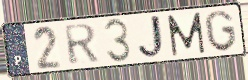2: (32, 24, 64, 70)
3: (102, 17, 133, 65)
G: (203, 9, 239, 53)
J: (137, 13, 169, 61)
M: (166, 11, 208, 58)
R: (62, 22, 101, 66)
